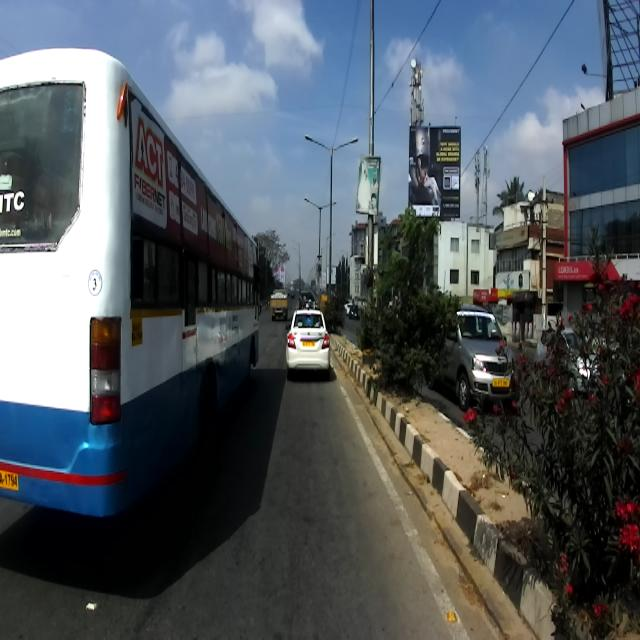bus ahead at: (0, 44, 268, 528)
car ahead at: (282, 297, 336, 389)
